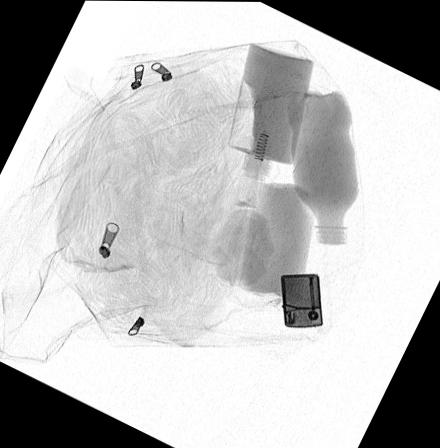Lighter: (280, 271, 322, 327)
